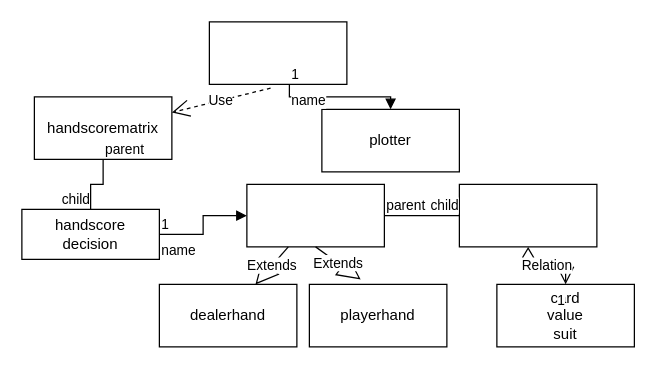
The diagram is 656 pixels wide and 369 high, and some of its shapes have lost their labels. Here are the shapes that lost their labels. From the top down, the box of each, then its label:
(208, 21, 347, 84): blackjackgame
(246, 183, 384, 247): hand
(458, 183, 597, 247): deck
